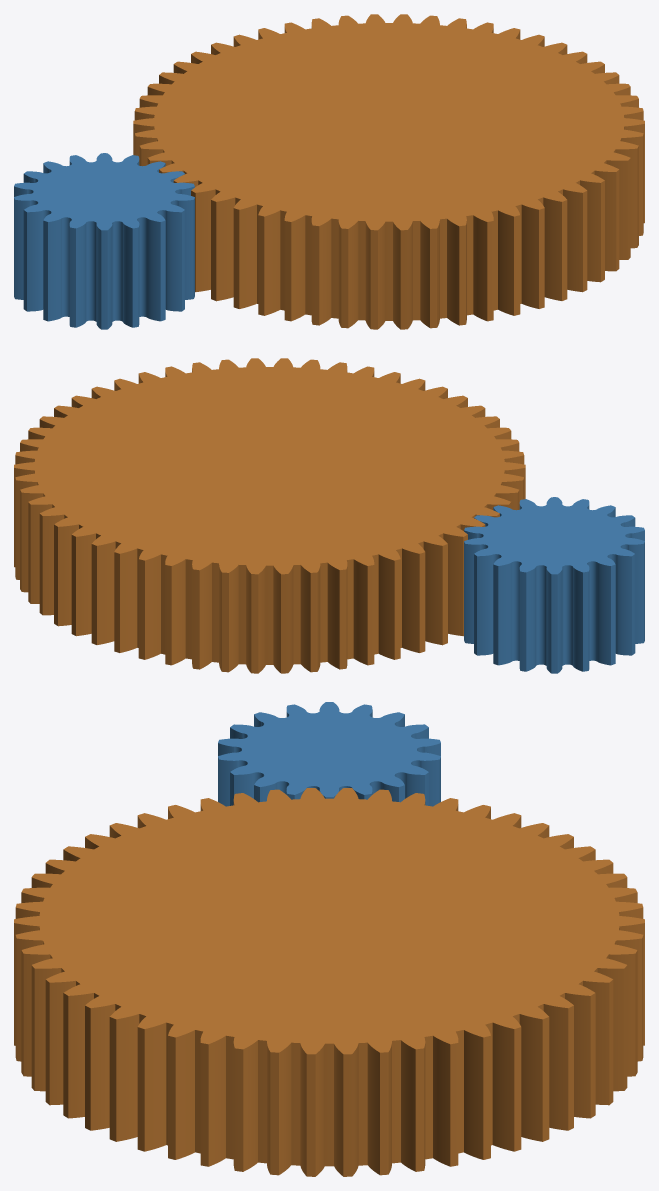
Rendered from spur_gear_pair.glb.
3 views of the same model, one above another, from view 1: azimuth 30°, elevation 25°; view 2: azimuth 150°, elevation 25°; view 3: azimuth 270°, elevation 25° (orthographic). The views are drawn at different scales.
Parts seen in each view (by area): view 1: Gear, Pinion; view 2: Gear, Pinion; view 3: Gear, Pinion.
Part boxes in pixels (left/top/right/bottom): Gear: left=133, top=14, right=644, bottom=329; Pinion: left=14, top=153, right=194, bottom=329; Gear: left=14, top=358, right=525, bottom=673; Pinion: left=464, top=497, right=644, bottom=673; Gear: left=14, top=788, right=644, bottom=1176; Pinion: left=218, top=702, right=440, bottom=806.
Bounding box in the file's own units: 555 × 90 × 420.
